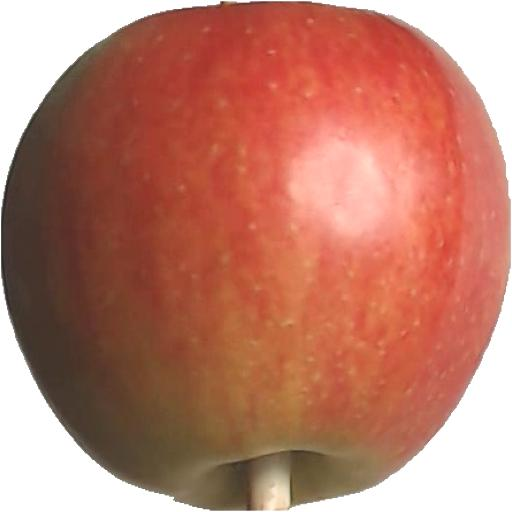apple-ripe: (0, 2, 512, 512)
